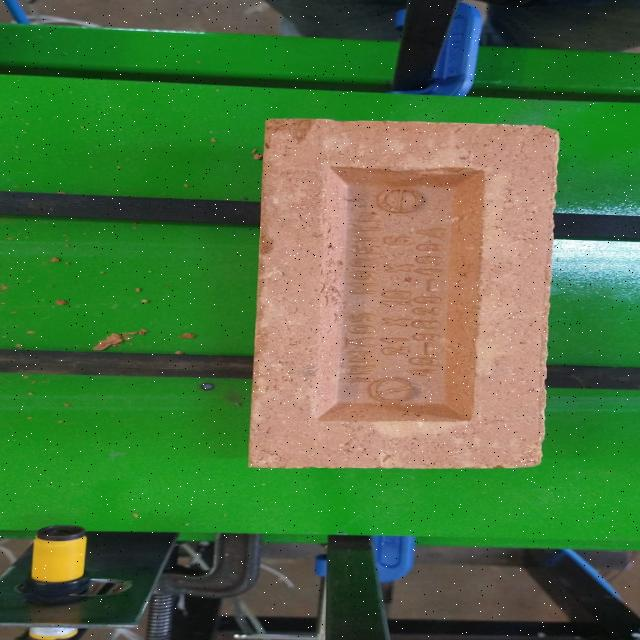bricks: (255, 119, 565, 468)
